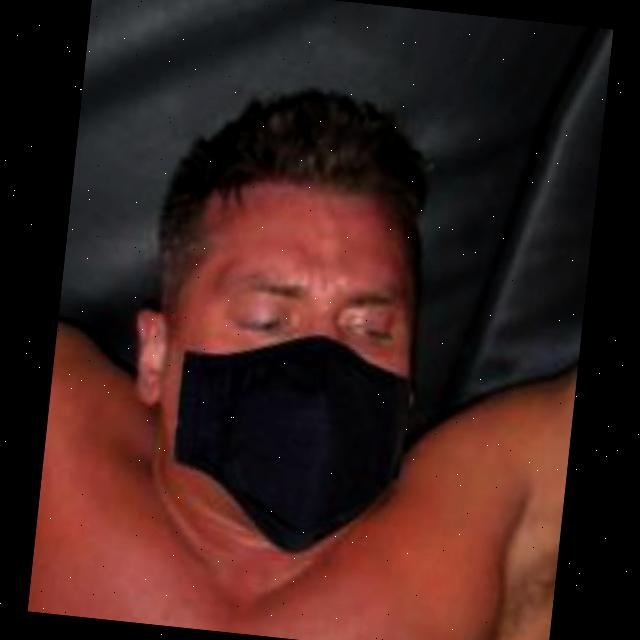suspicion: (113, 104, 440, 534)
